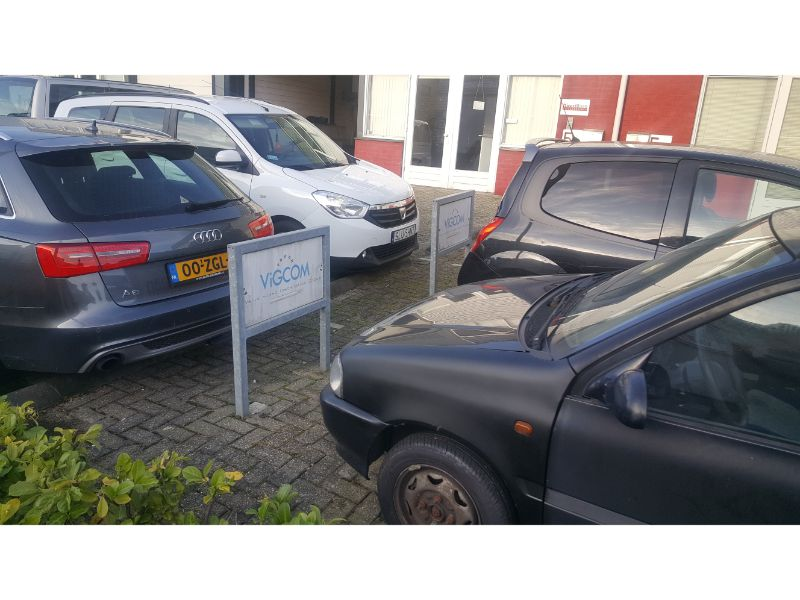kenteken: (167, 250, 233, 278)
